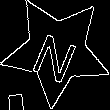N_NE: (29, 20, 84, 82)
